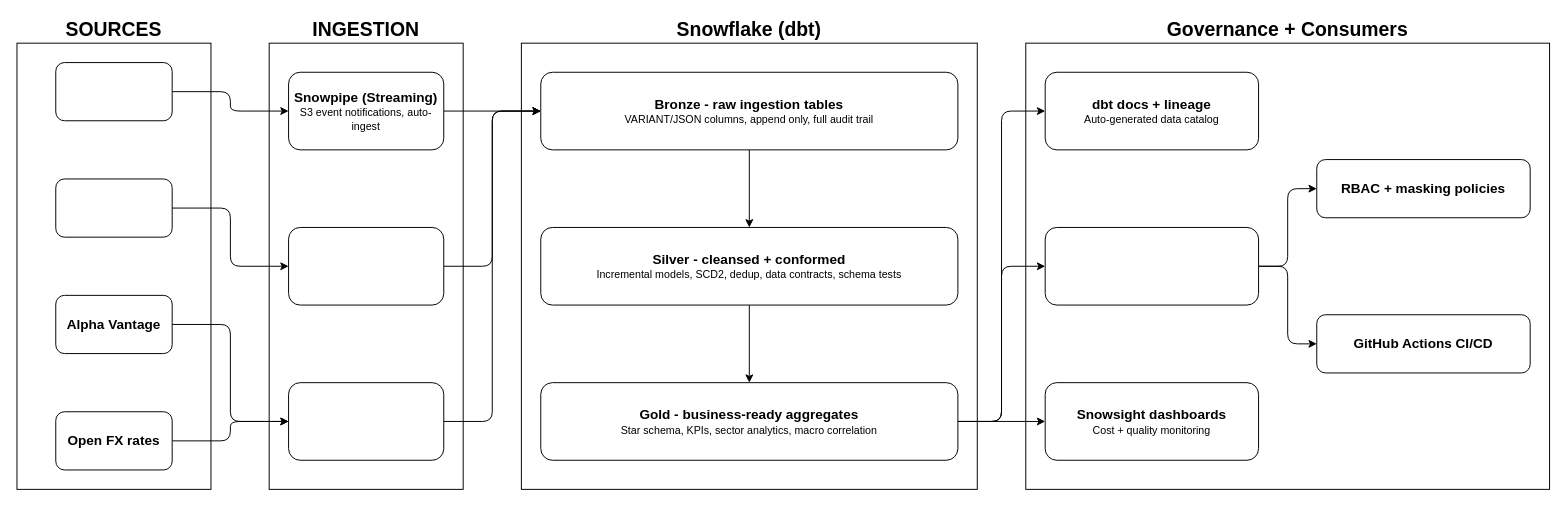
The diagram is 1567 pixels wide and 506 high, and some of its shapes have lost their labels. The shapes that lost their labels are listed below. From the top down, each one's centre as x and y in pixels, then its label:
At pixel 113 91: "SEC EDGAR".
At pixel 113 207: "FRED API".
At pixel 366 265: "Airflow DAGs (batch) API extraction, scheduling".
At pixel 1151 265: "Snowflake shares Secure data sharing".
At pixel 366 421: "External stages S3 + GCS mounts".
